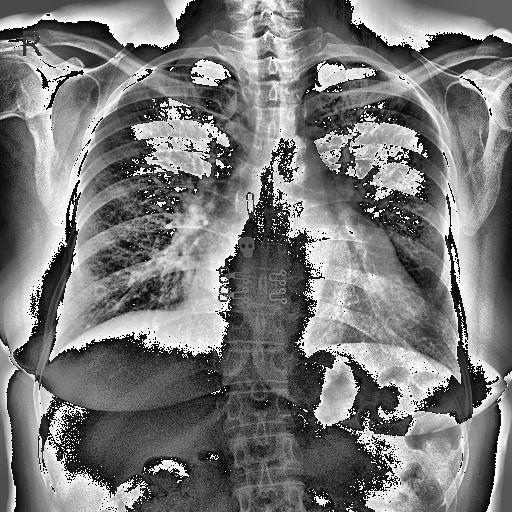11- Pleural thickening: (330, 56, 380, 68), (204, 58, 227, 70)
13- Pulmonary fibrosis: (147, 80, 182, 132), (152, 80, 172, 108)
3- Cardiomegaly: (180, 226, 426, 342), (184, 268, 438, 356), (188, 262, 427, 348)
9- Other lesion: (334, 201, 398, 265)
